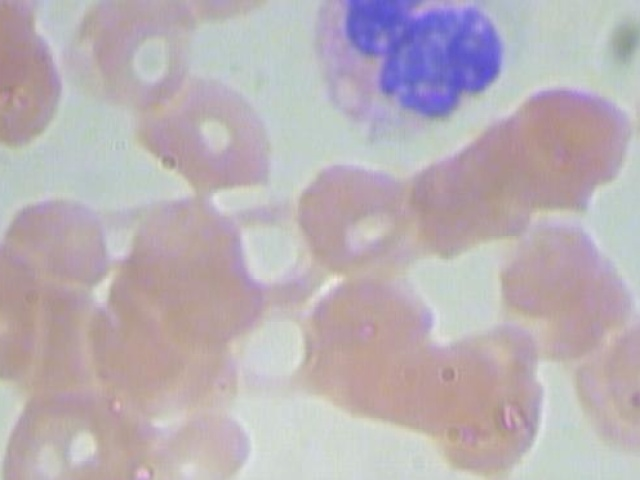RBC: (113, 68, 296, 200), (295, 256, 443, 372), (0, 369, 135, 480), (211, 188, 330, 308), (290, 151, 408, 271), (366, 153, 484, 273), (427, 138, 545, 258), (453, 110, 571, 230), (521, 80, 639, 200), (209, 281, 327, 401), (66, 0, 197, 104), (0, 188, 111, 308), (0, 0, 69, 161), (142, 397, 259, 480), (596, 304, 640, 424), (169, 0, 311, 22), (622, 33, 640, 182), (0, 220, 15, 392), (0, 0, 47, 51), (636, 177, 640, 321)
WBC: (288, 0, 521, 159)
